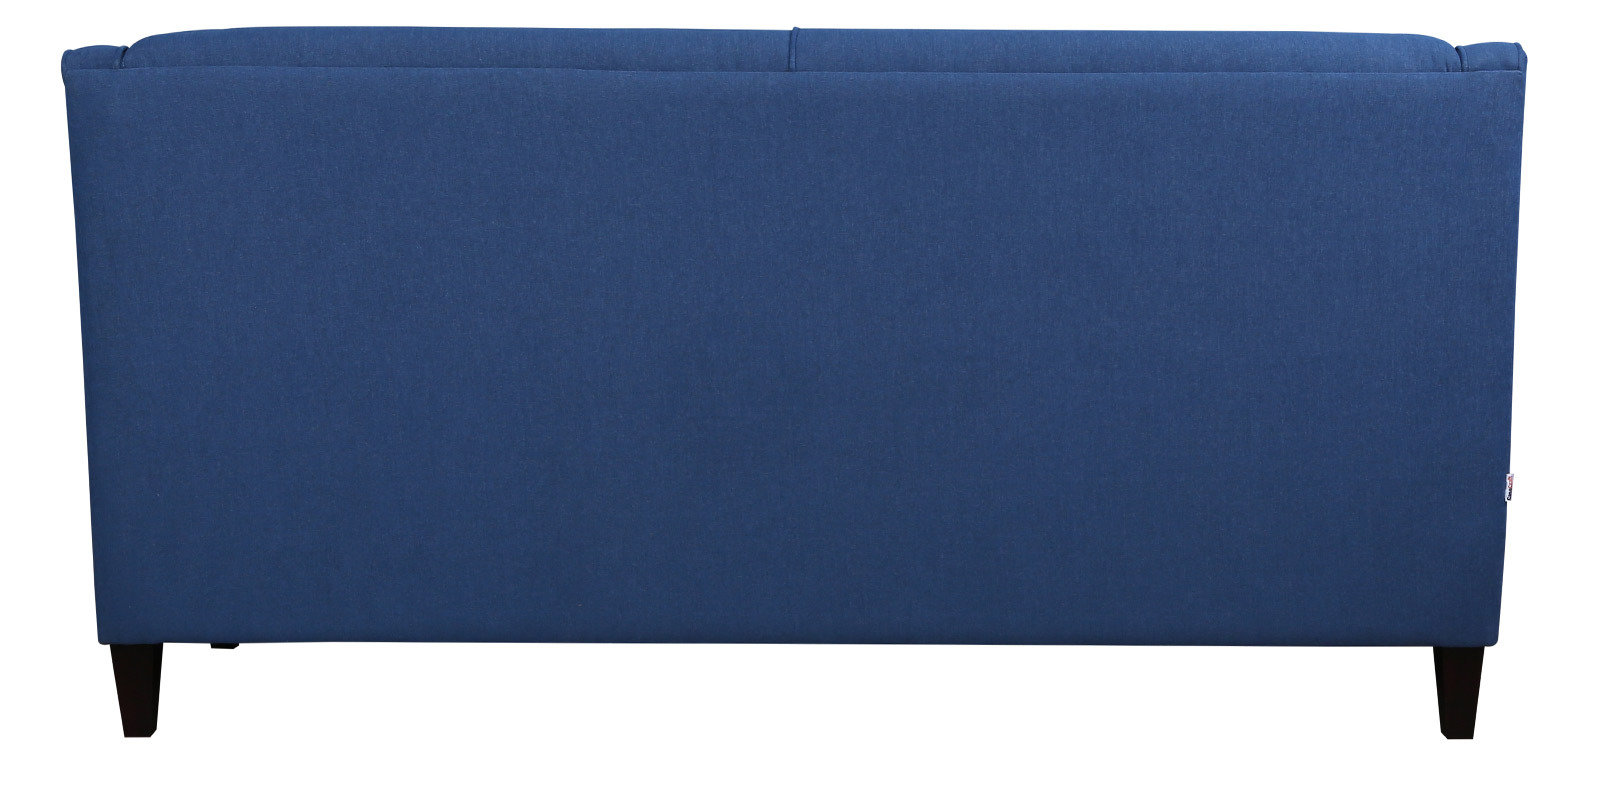Oscar Three Seater Sofa in Denim Blue Colour by CasaCraft: (59, 24, 1526, 739)
